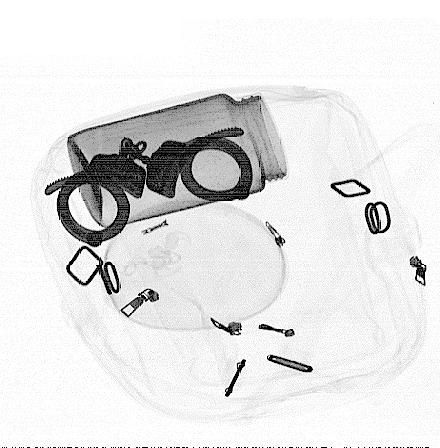HandCuffs: (43, 125, 255, 244)
